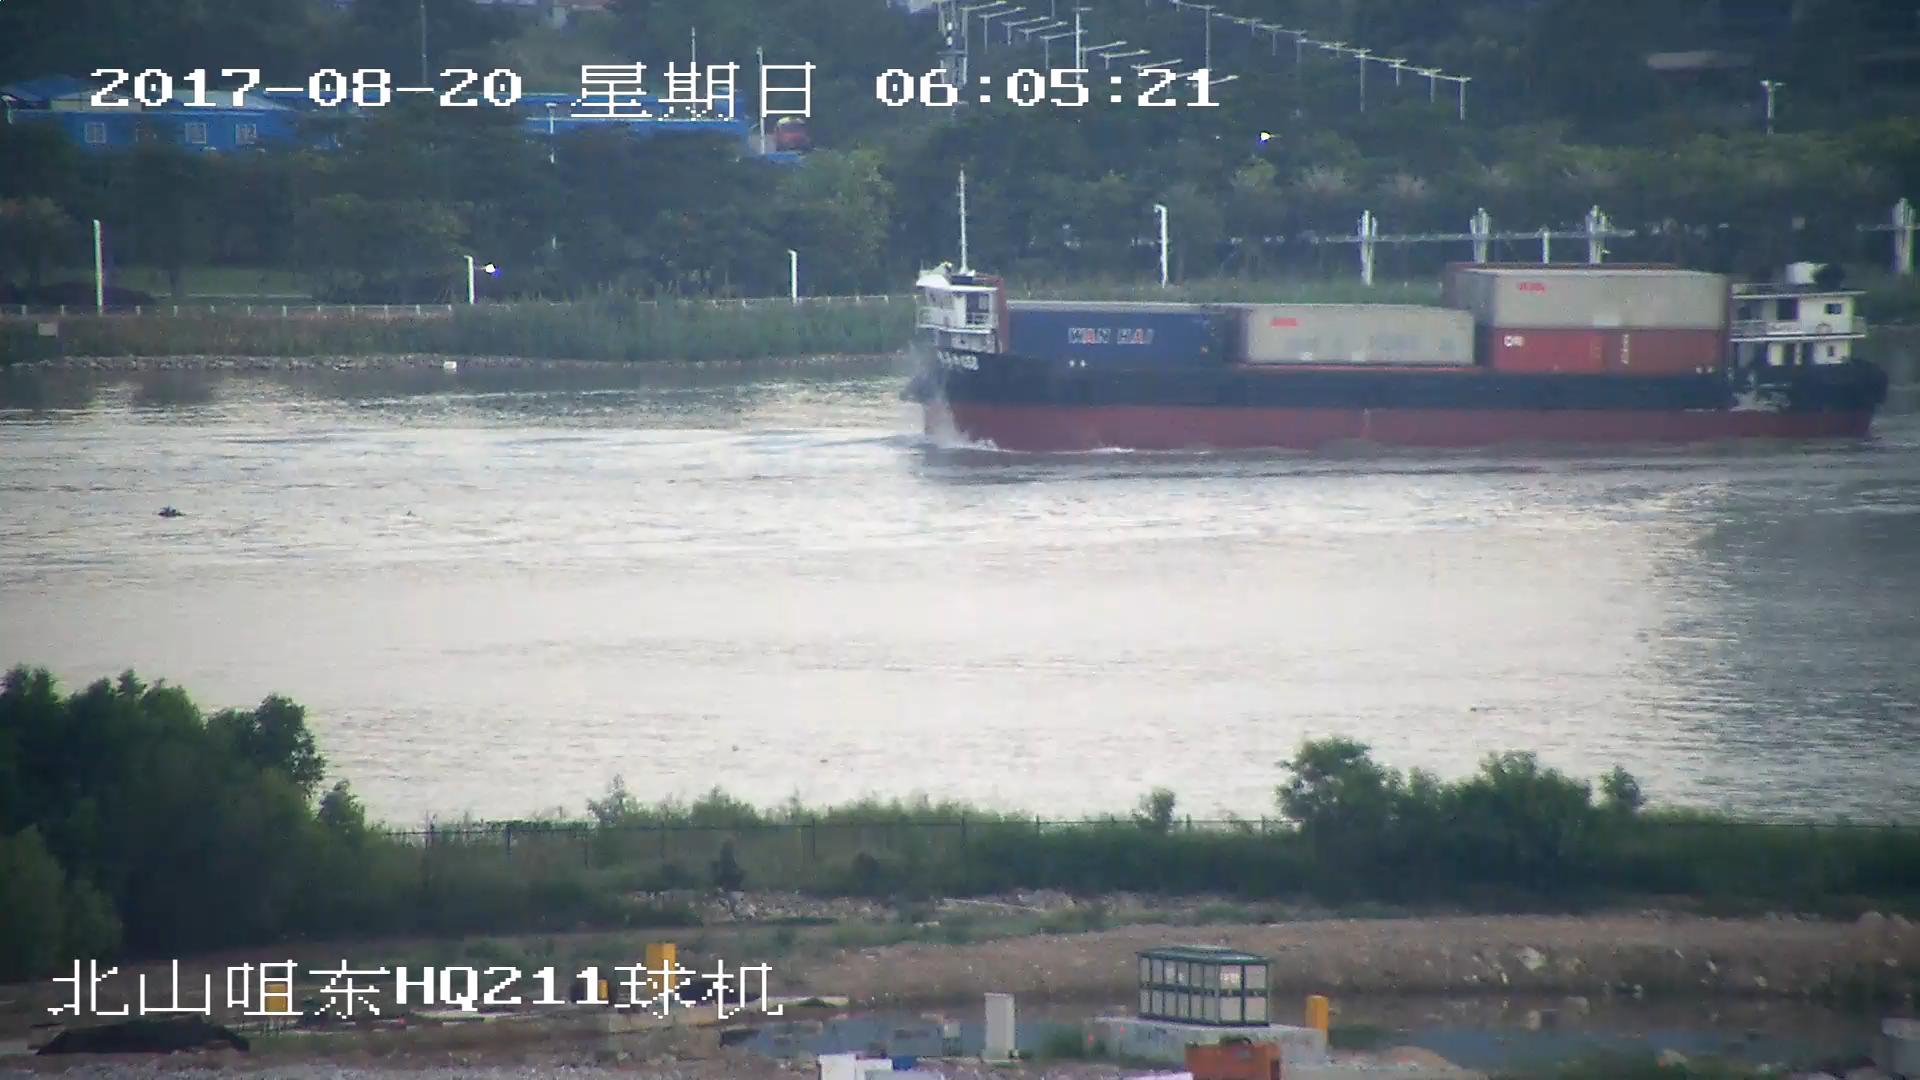Ship: (895, 175, 1892, 458)
